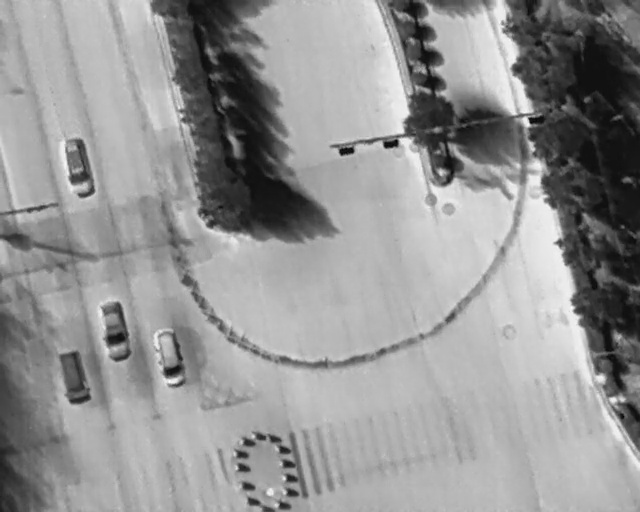Car: (57, 135, 97, 201), (149, 324, 188, 390), (96, 298, 133, 362), (57, 348, 93, 406)
